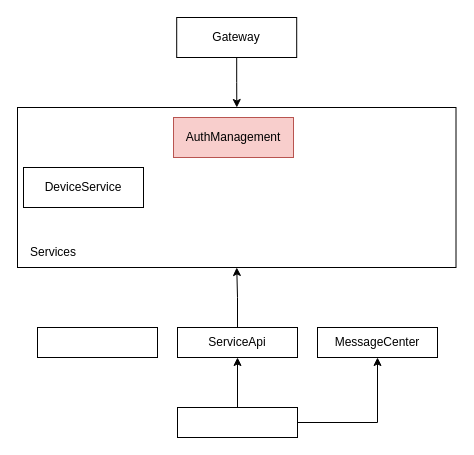
This 474x455 diagram has some shape labels left out. The shapes that lost their labels are listed below. From the top down, each one's centre as x and y in pixels, then its label:
point 97,342: journal
point 237,422: Common
